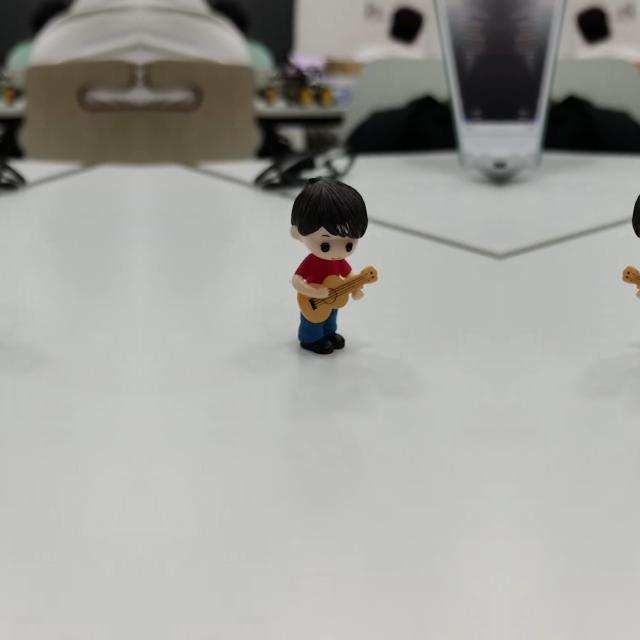man cloth: (297, 258, 355, 292)
man head: (290, 176, 374, 262), (626, 176, 640, 262)
trousers: (299, 303, 351, 355)
